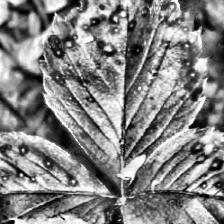Leaf Spot: (39, 0, 210, 192), (0, 130, 116, 224), (121, 126, 224, 224)
